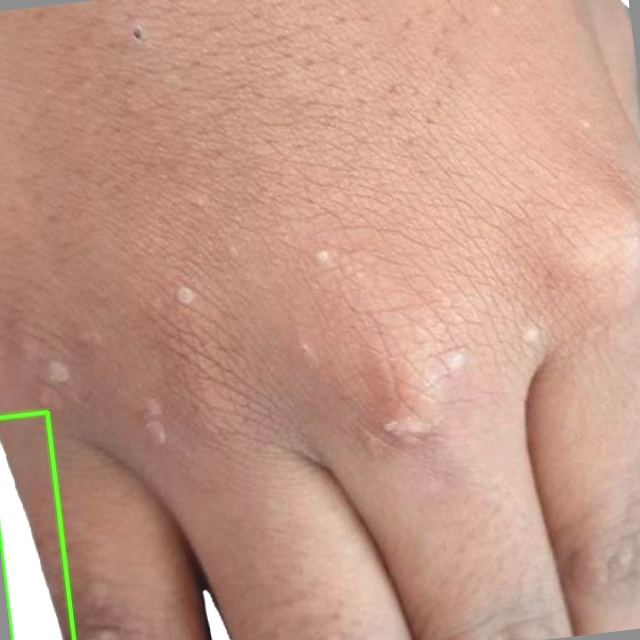Atopic Dermatitis: (0, 413, 75, 639)
